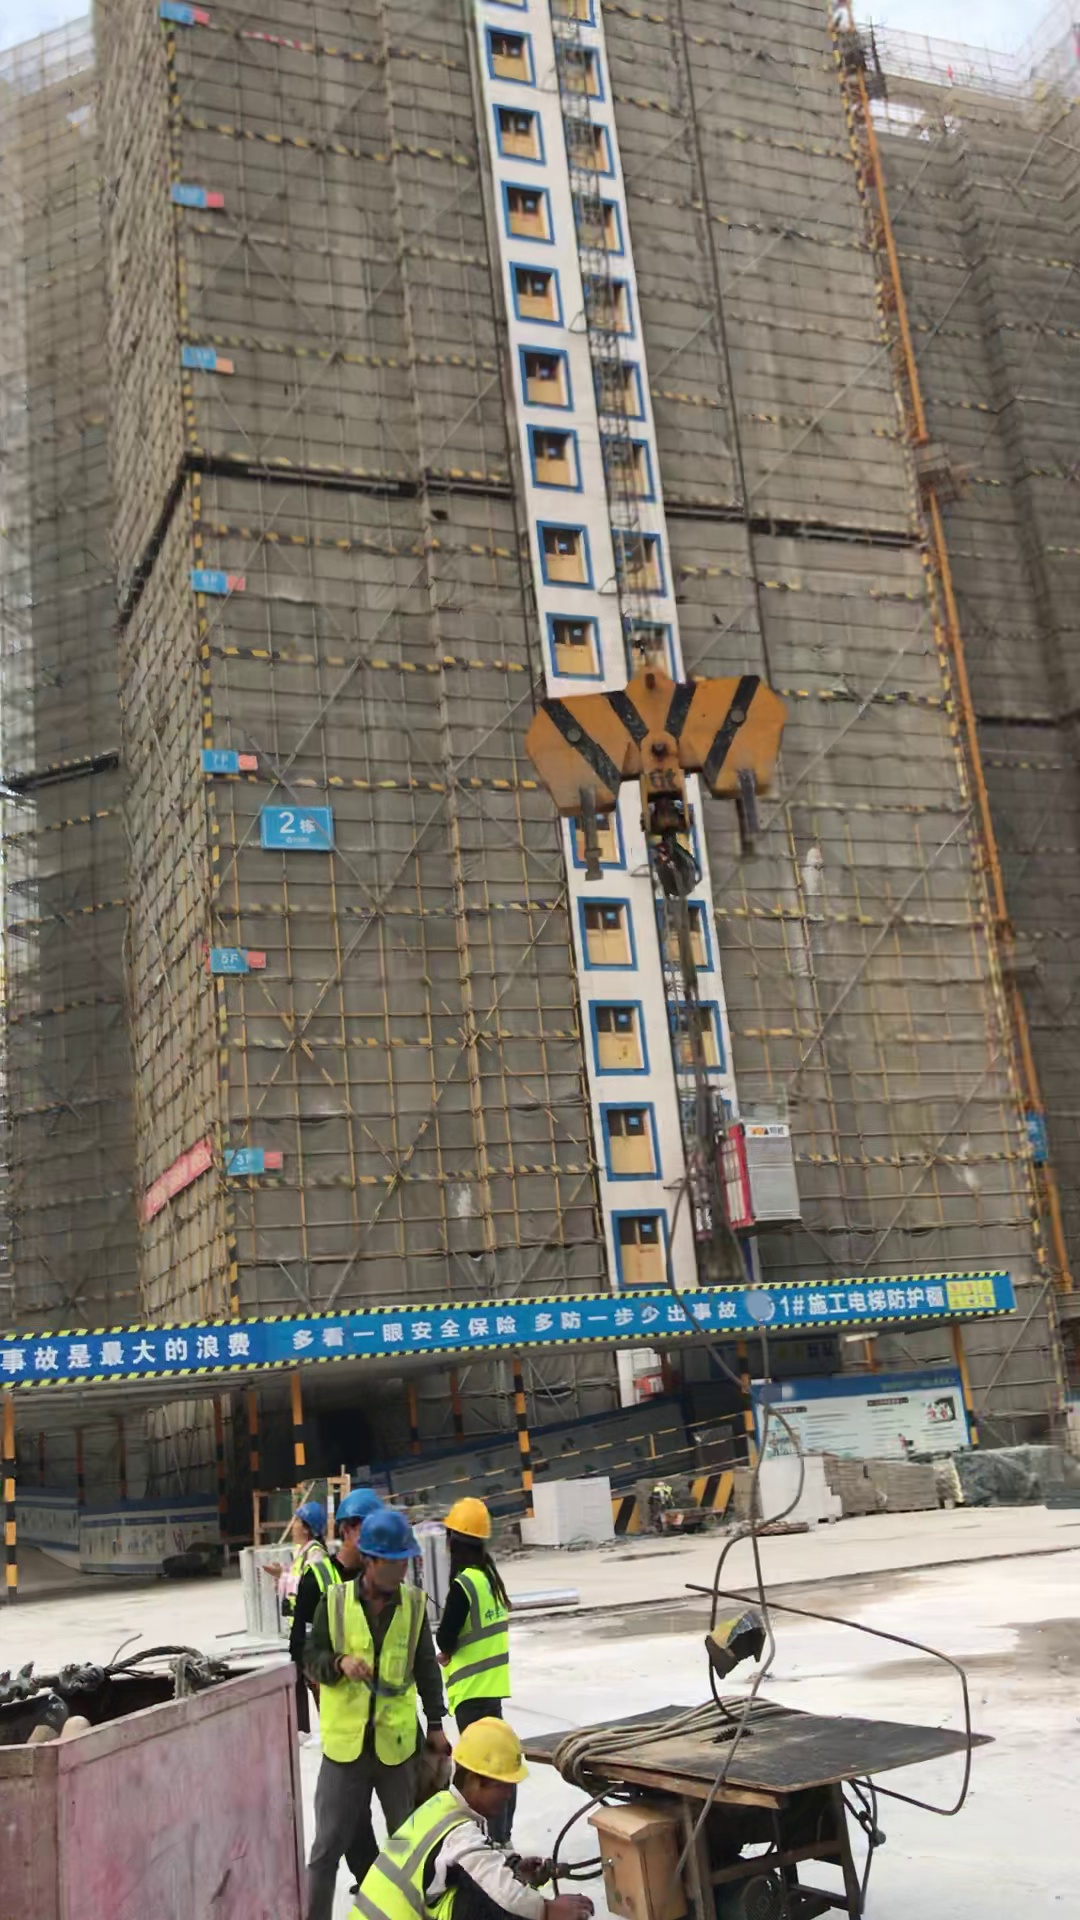brick: (518, 1478, 618, 1547), (759, 1455, 841, 1524)
cutter: (532, 1686, 1000, 1920)
helmet: (452, 1719, 526, 1789), (361, 1514, 421, 1562), (444, 1497, 494, 1539), (338, 1490, 385, 1518), (297, 1502, 322, 1529)
hook: (524, 672, 787, 891)
person: (344, 1722, 602, 1920), (313, 1516, 424, 1920), (436, 1496, 526, 1722), (296, 1499, 378, 1732), (283, 1498, 328, 1611)
slogan: (290, 1290, 739, 1354), (5, 1329, 251, 1383), (945, 1276, 994, 1311)
vest: (324, 1583, 418, 1766), (361, 1789, 481, 1920), (445, 1566, 513, 1707), (288, 1542, 324, 1582)
